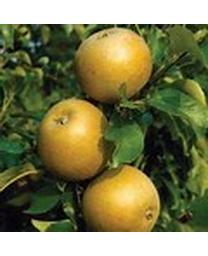apple: (36, 96, 112, 182), (74, 28, 153, 103), (82, 165, 160, 231)
